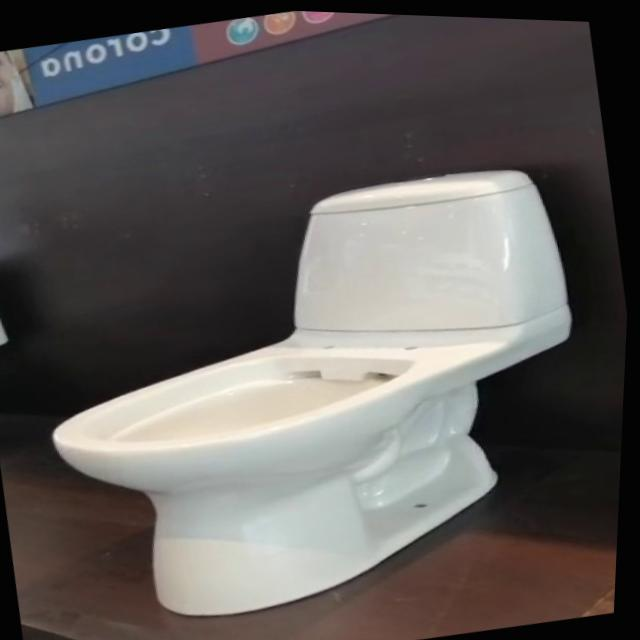toilet: (13, 138, 625, 640)
